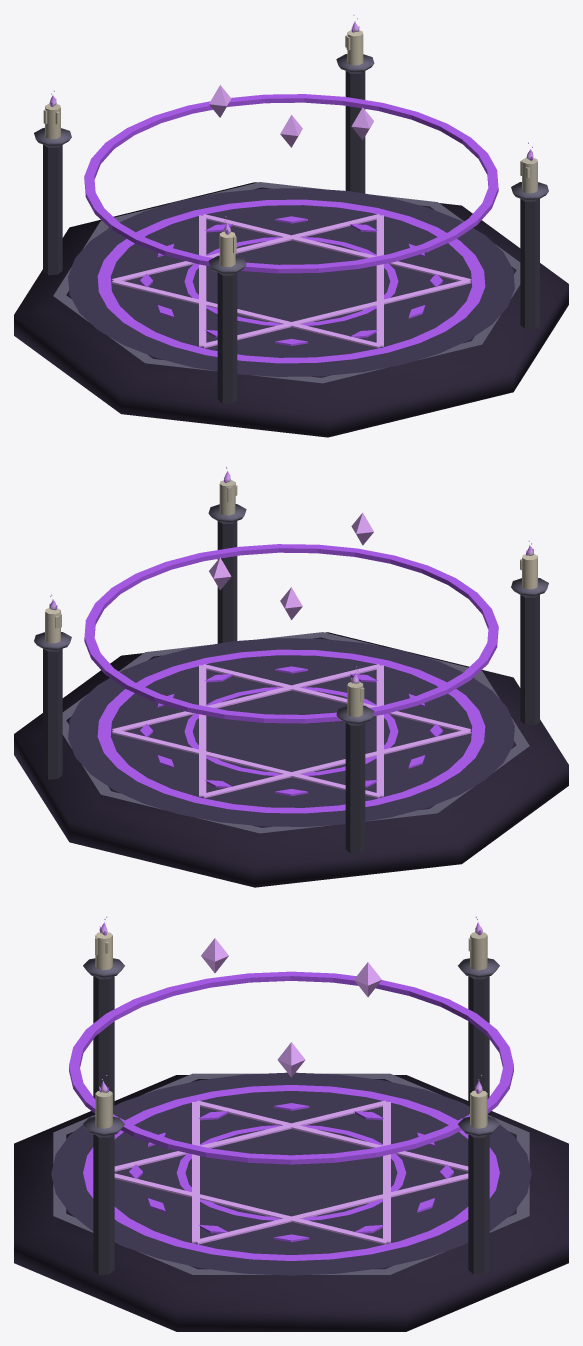
File: warp.fbx
3 views of the same model, one above another, from view 1: azimuth 30°, elevation 25°; view 2: azimuth 150°, elevation 25°; view 3: azimuth 270°, elevation 25° (orthographic). The views are drawn at different scales.
Visible parts, largest first — view 1: warp; view 2: warp; view 3: warp.
Boxes of the visible parts, bbox=[...] form: warp: bbox=[14, 15, 568, 437]; warp: bbox=[14, 466, 568, 887]; warp: bbox=[14, 916, 568, 1331].
Size of the model in its own units: 3.14 by 1.61 by 3.14.
